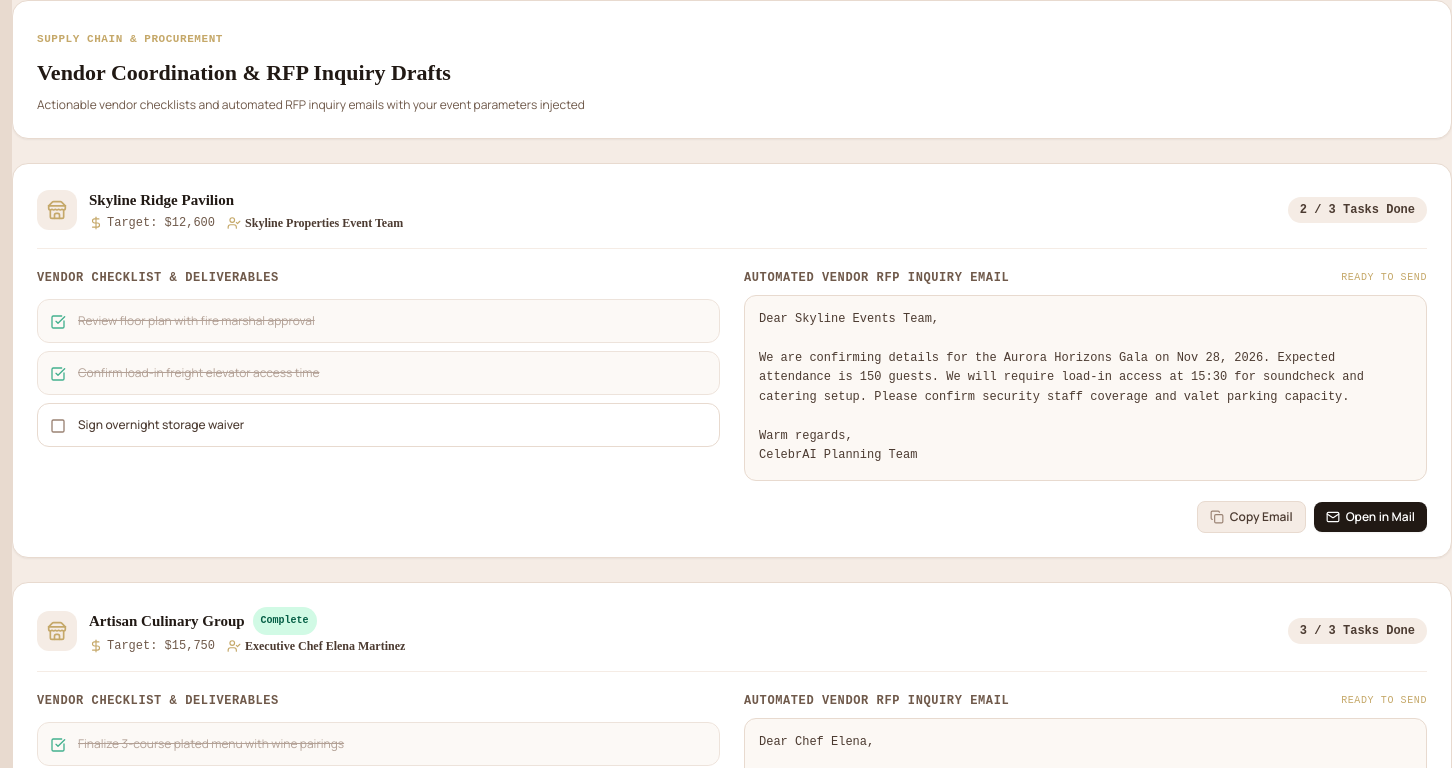
Test: Vendor inquiry clipboard feedback › reports denied clipboard access without announcing success
Step 1. Click the button "Copy Email" → (1251, 517), box [1197,501,1306,533]
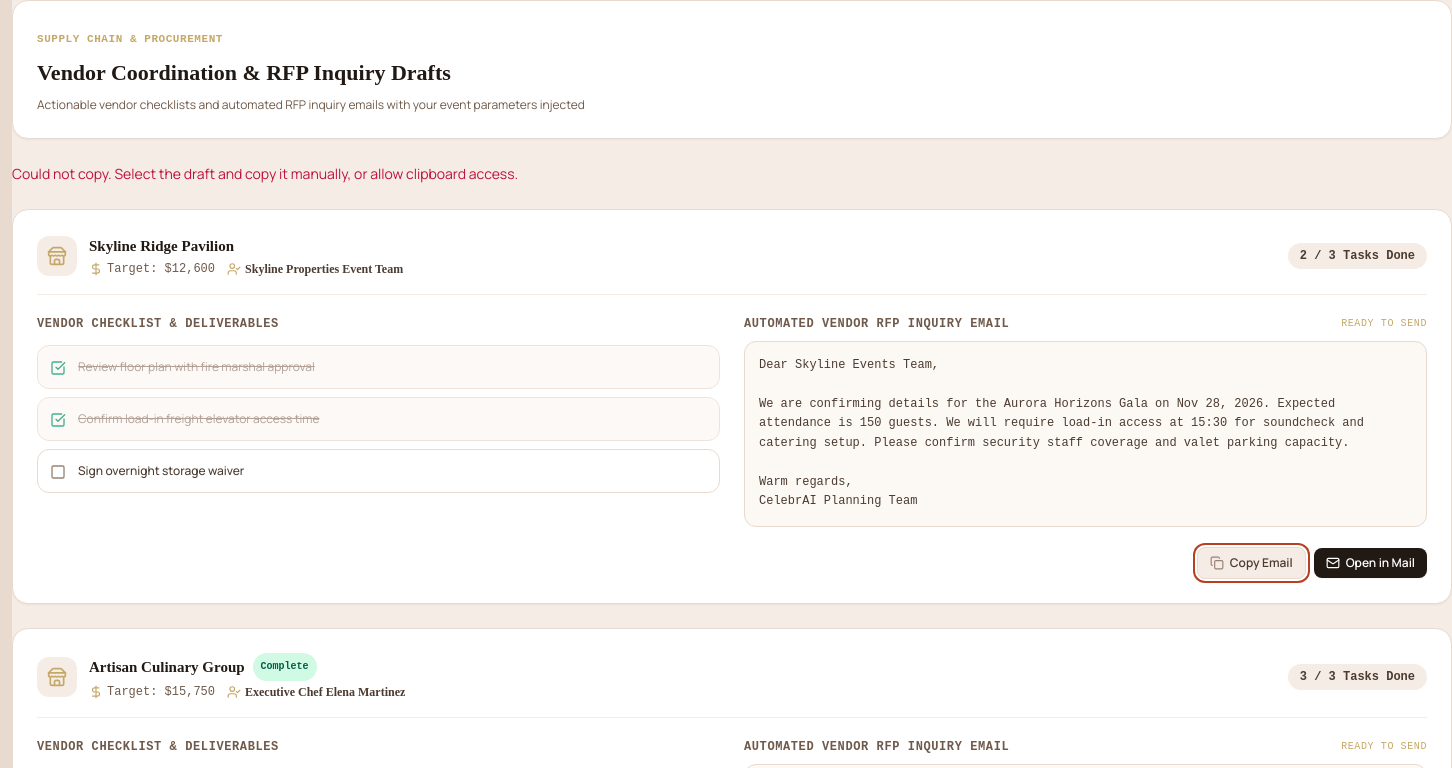
Check: the message shows "Could not copy", box [12,164,518,183]
